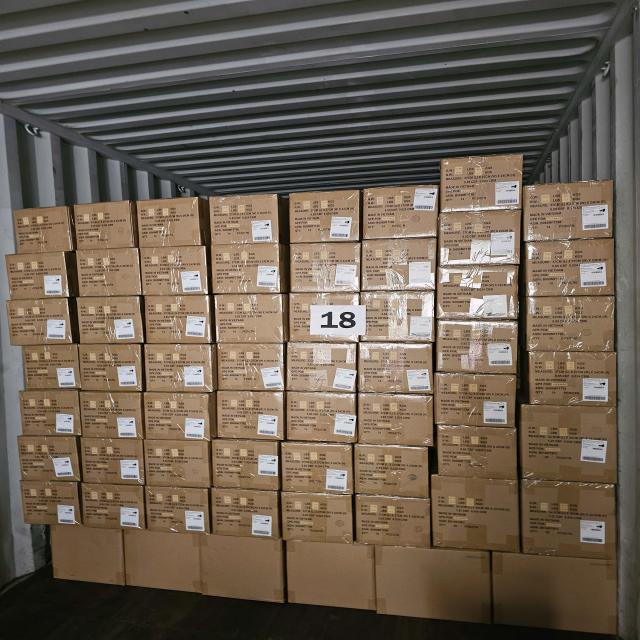Carton: (494, 550, 621, 636), (375, 544, 493, 623), (434, 164, 518, 270), (520, 483, 618, 564), (520, 405, 619, 485), (431, 474, 522, 553), (288, 541, 378, 613), (198, 534, 284, 604), (525, 179, 616, 238), (526, 349, 620, 404), (526, 298, 618, 354), (525, 241, 614, 298), (126, 532, 205, 596), (49, 527, 123, 589), (437, 424, 518, 480), (434, 322, 518, 376), (433, 376, 515, 430), (356, 394, 433, 449), (362, 186, 438, 240), (279, 444, 354, 498), (356, 341, 433, 393), (351, 447, 428, 499), (354, 494, 431, 546), (358, 241, 434, 293), (287, 190, 359, 244), (286, 392, 359, 445), (210, 441, 280, 494), (278, 493, 352, 543), (362, 295, 436, 345), (208, 194, 280, 245), (209, 487, 281, 538), (284, 342, 357, 392), (212, 246, 286, 295), (144, 343, 218, 392), (286, 296, 358, 346), (290, 245, 362, 294), (140, 248, 212, 297), (142, 393, 214, 442), (216, 297, 287, 346), (145, 298, 214, 347), (142, 442, 211, 491), (214, 392, 283, 441), (218, 342, 286, 390), (74, 300, 143, 347), (138, 199, 204, 248), (75, 250, 141, 298), (79, 343, 145, 391), (78, 441, 145, 488), (78, 392, 143, 440), (9, 300, 74, 348), (143, 486, 209, 532), (78, 484, 144, 530), (74, 202, 136, 249), (17, 392, 80, 438), (5, 256, 69, 301), (15, 439, 79, 484), (22, 481, 83, 527), (19, 344, 79, 390), (12, 207, 71, 253)
